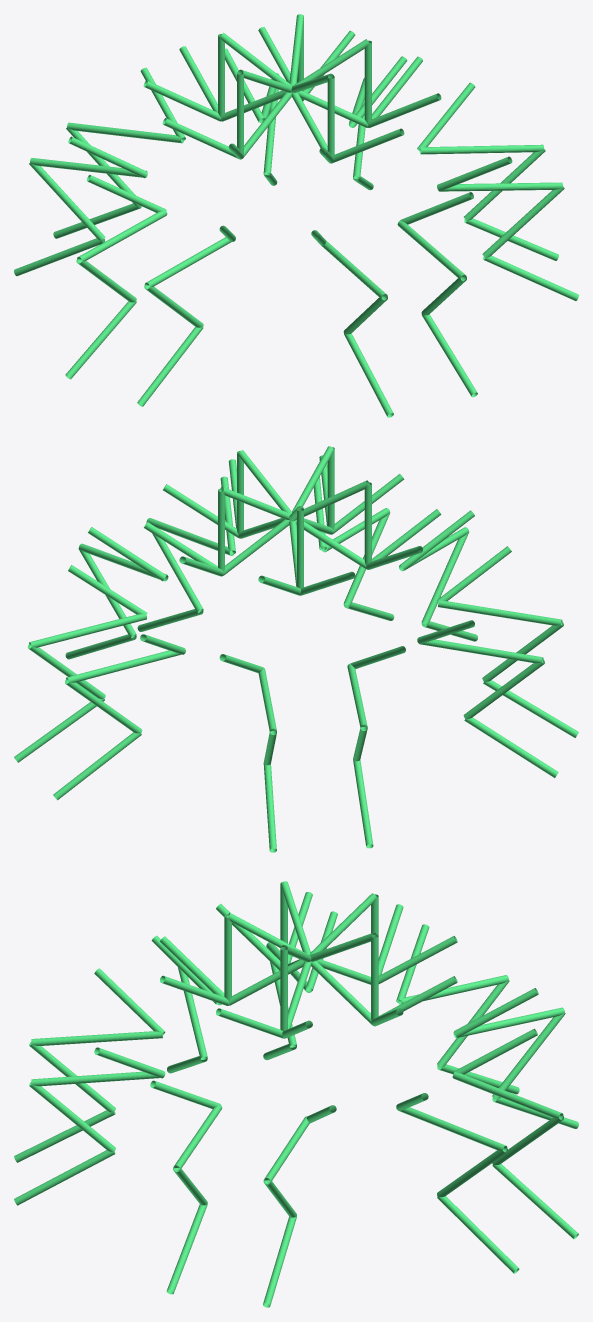
File: trinexus4_2a.glb
The picture shows the model from 3 angles, top to bottom: view 1: azimuth 30°, elevation 25°; view 2: azimuth 150°, elevation 25°; view 3: azimuth 270°, elevation 25°; orthographic projection. The views are drawn at different scales.
Parts seen in each view (by area): view 1: Mesh_157.004; view 2: Mesh_157.004; view 3: Mesh_157.004.
Part boxes in pixels (x1,y1,x2,y2): Mesh_157.004: (14,14,578,417); Mesh_157.004: (14,446,578,852); Mesh_157.004: (14,881,578,1307).
Bounding box in the file's own units: 9.34 × 4.7 × 8.9.
